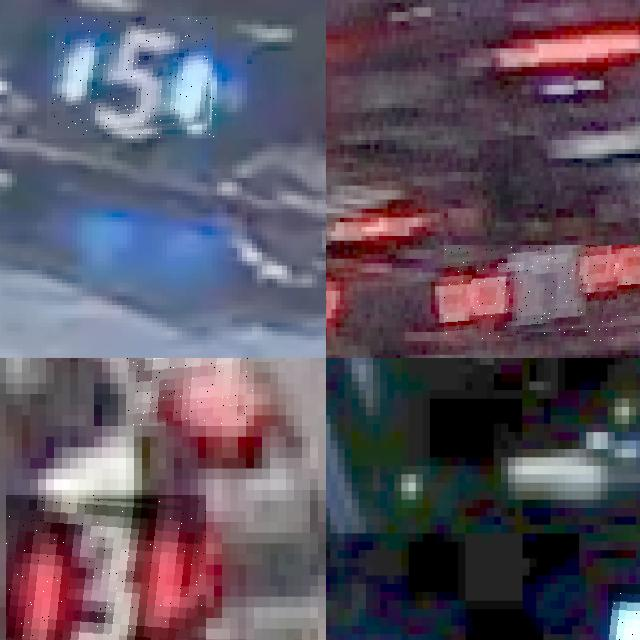B5: (47, 16, 217, 138)
R1: (443, 245, 640, 341)
R3: (6, 495, 206, 640), (126, 358, 254, 425)
